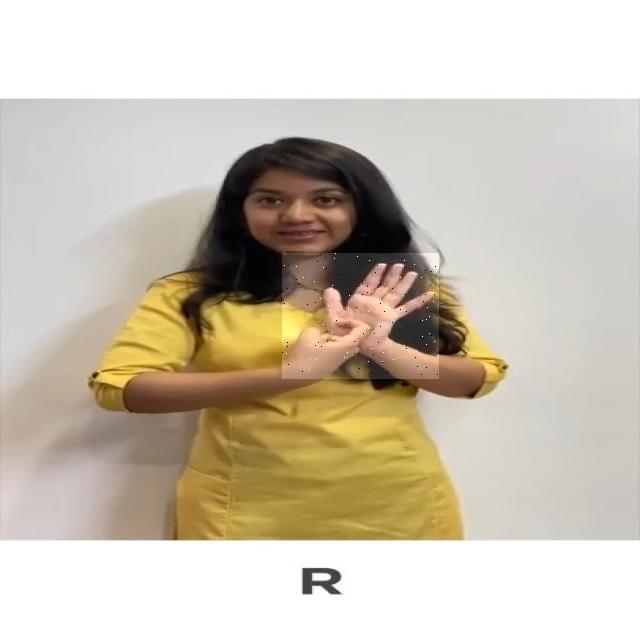R: (282, 253, 439, 379)
